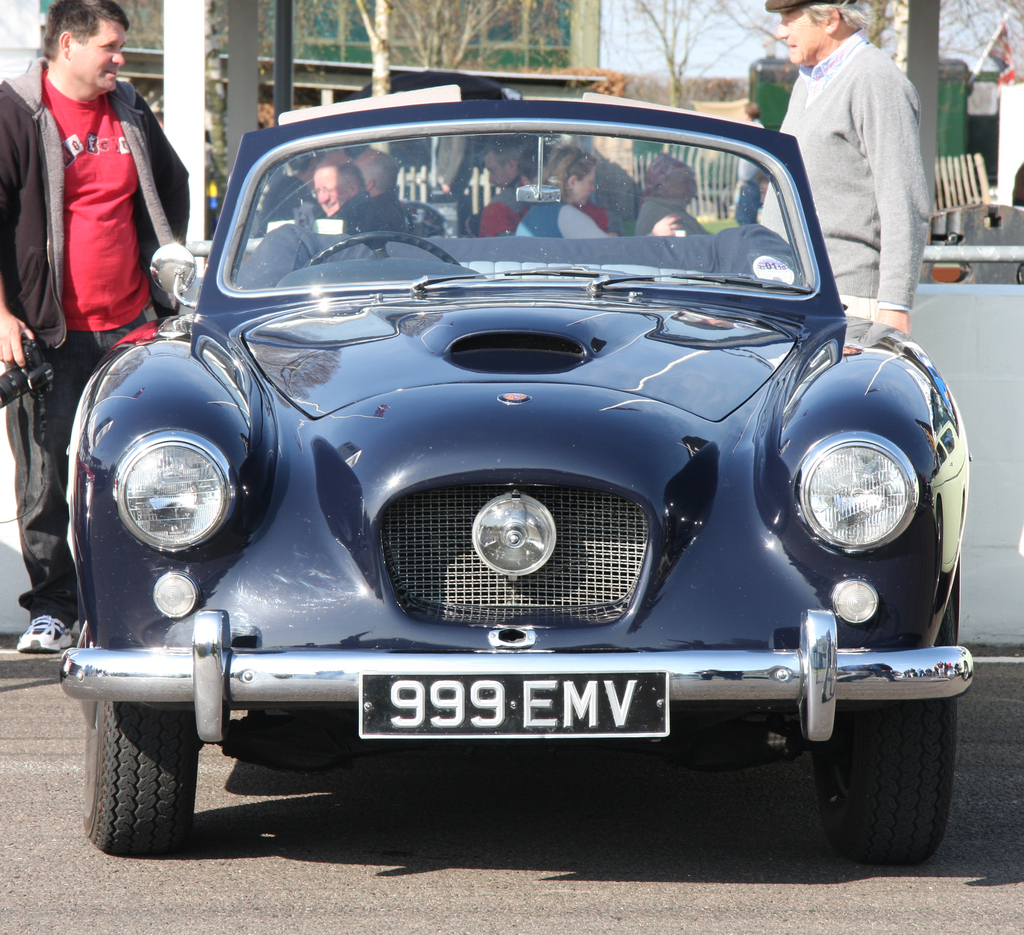Car: (54, 76, 979, 859)
